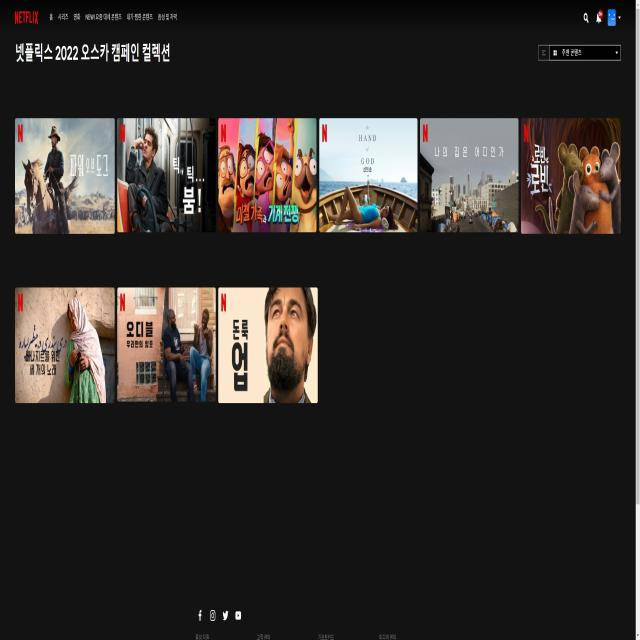menu-bar: (580, 8, 624, 31)
tab-bar: (9, 7, 182, 29)
